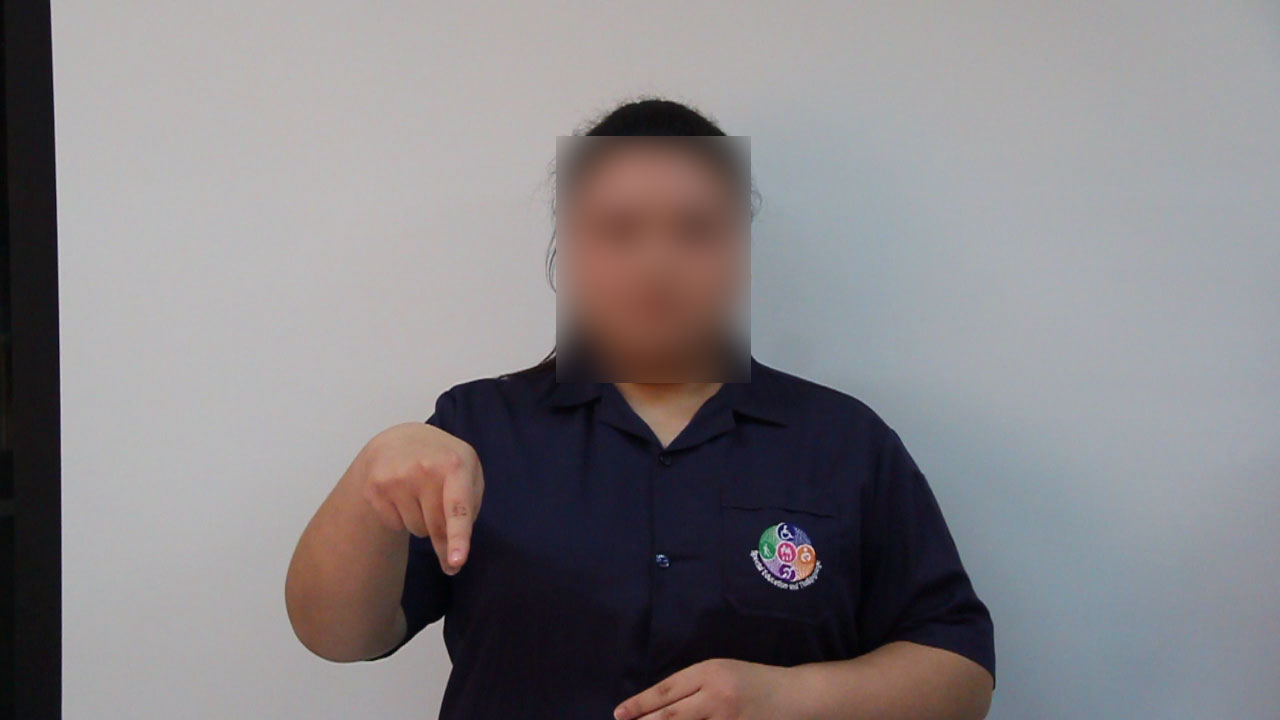por: (351, 407, 498, 588)
